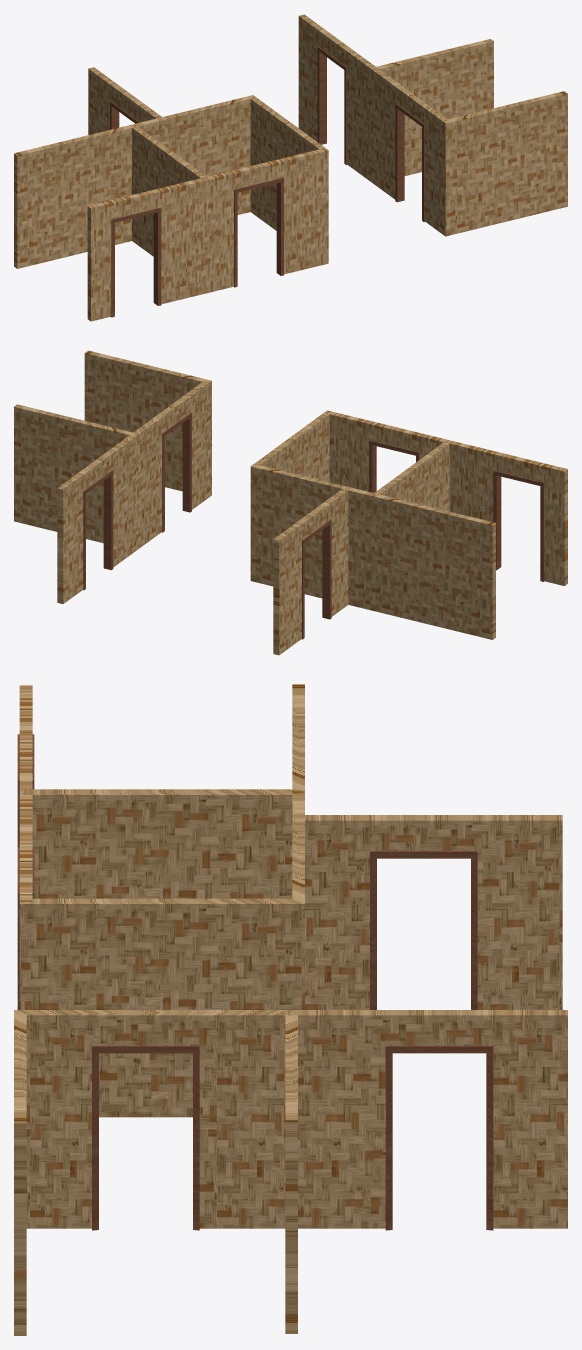
The model's file is R3_Tengah.fbx.
3 views of the same model, one above another, from view 1: azimuth 30°, elevation 25°; view 2: azimuth 150°, elevation 25°; view 3: azimuth 270°, elevation 25° (orthographic). The views are drawn at different scales.
Visible parts, largest first — view 1: R3_Tengah; view 2: R3_Tengah; view 3: R3_Tengah.
Part boxes in pixels (<box>): R3_Tengah: <box>14,14,567,321</box>; R3_Tengah: <box>14,350,567,655</box>; R3_Tengah: <box>14,684,567,1335</box>.
Bounding box in the file's own units: 24.31 × 5.54 × 12.98.
2 materials, 2 textured.
